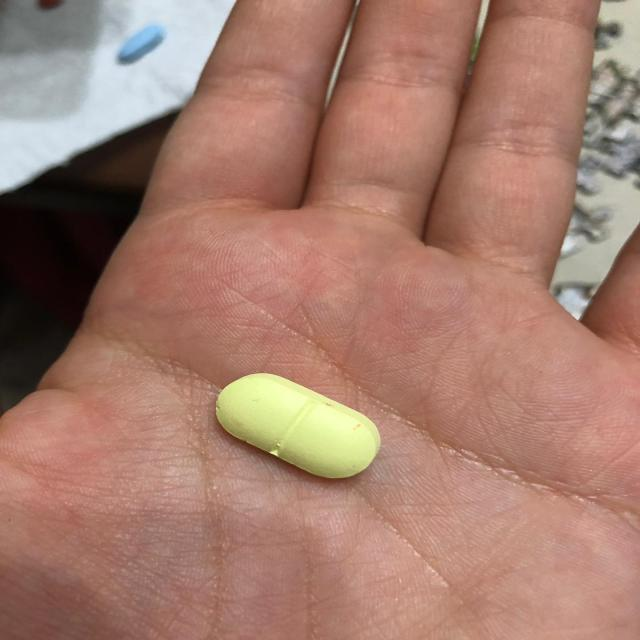pills: (210, 355, 391, 493)
